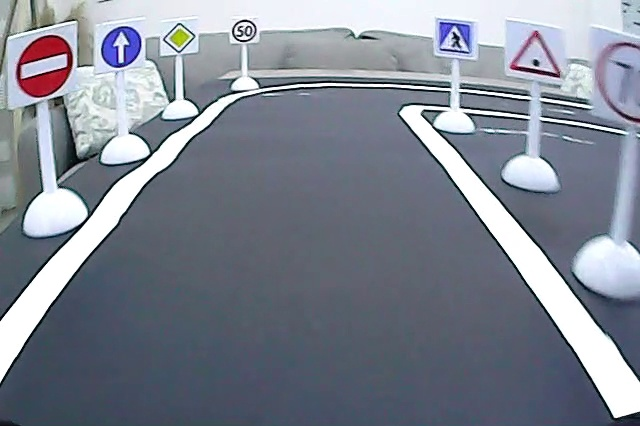do not enter: (8, 34, 80, 98)
green light: (506, 23, 563, 80)
pedestrian crossing: (437, 20, 474, 54)
speed limit 50: (231, 19, 257, 43)
